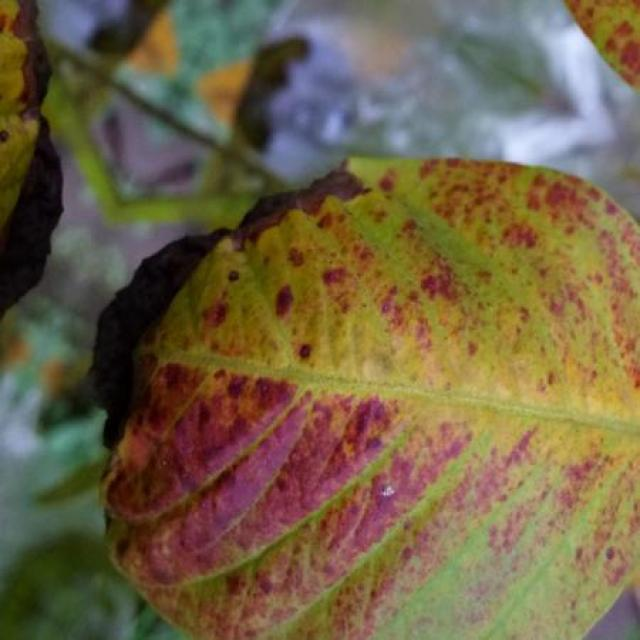Red Rust: (92, 159, 640, 640), (0, 0, 62, 317)
